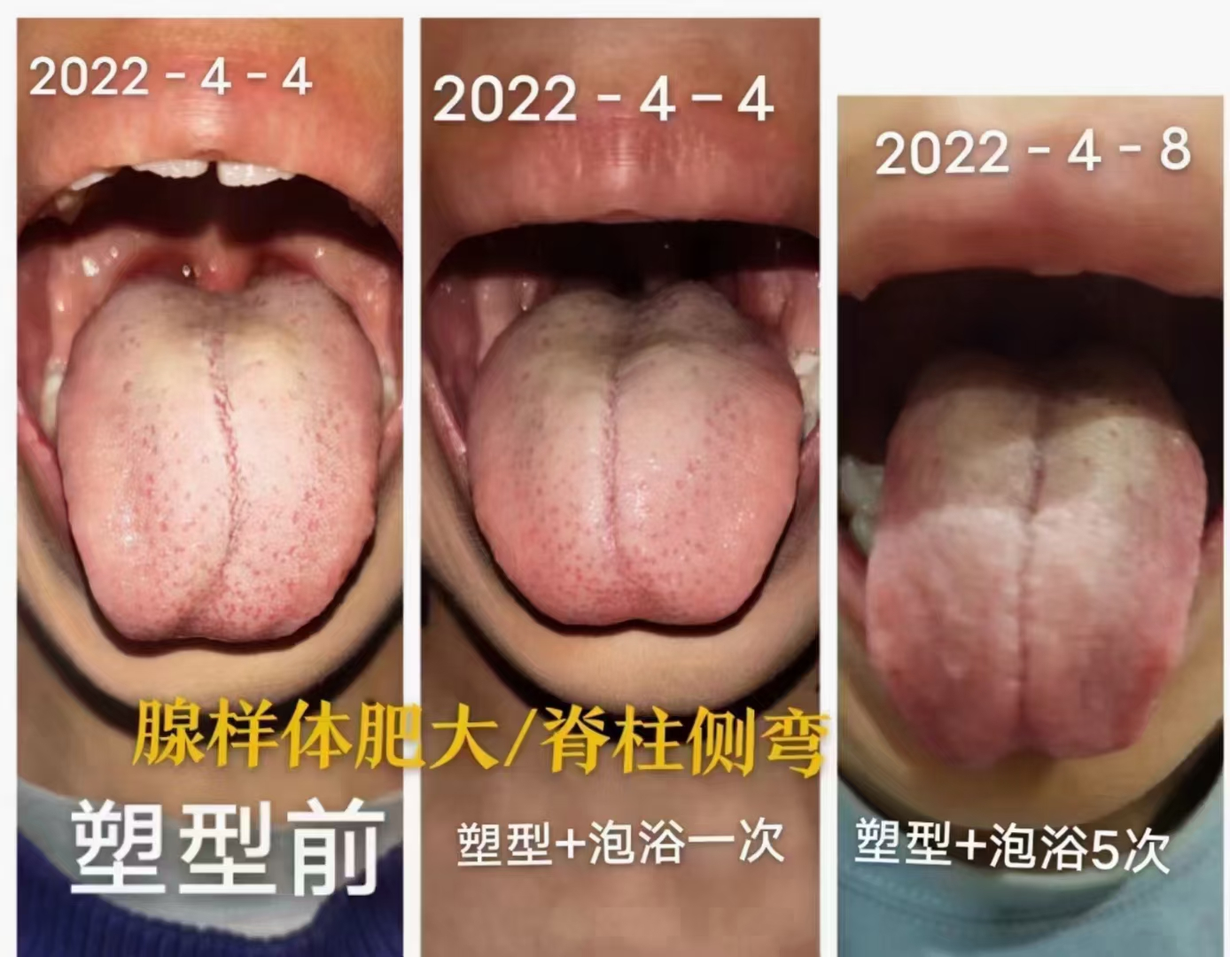baitaishe: (866, 380, 1208, 766), (56, 272, 381, 642), (468, 284, 804, 625)
hongdianshe: (550, 533, 694, 606)
liewenshe: (1009, 454, 1050, 718)
